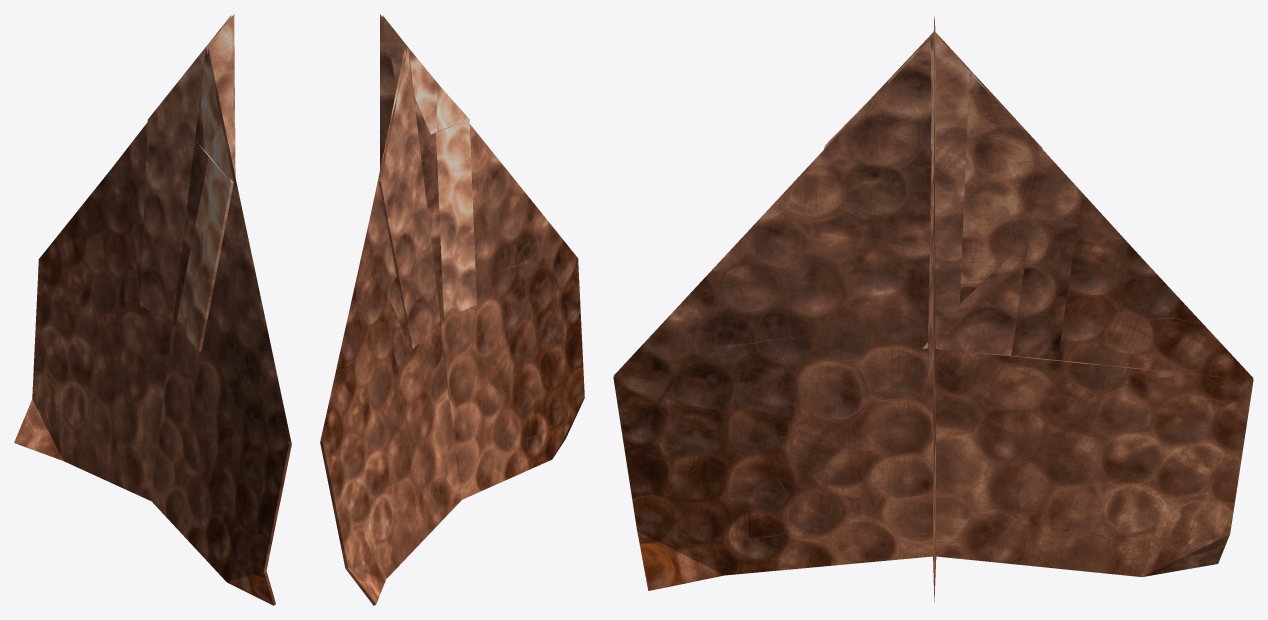
3 renders of one model, left to right at view 1: azimuth 30°, elevation 25°; view 2: azimuth 150°, elevation 25°; view 3: azimuth 270°, elevation 25°, orthographic. The views are drawn at different scales.
Visible parts, largest first — view 1: Origami_Model_90.001; view 2: Origami_Model_90.001; view 3: Origami_Model_90.001.
Part boxes in pixels (x1=…): Origami_Model_90.001: x1=14, y1=14, x2=291, y2=605; Origami_Model_90.001: x1=320, y1=14, x2=584, y2=605; Origami_Model_90.001: x1=613, y1=16, x2=1253, y2=602.
Size of the model in its own units: 0.0388 by 0.1682 by 0.1572.
Materials: 1 (1 with a texture image).
